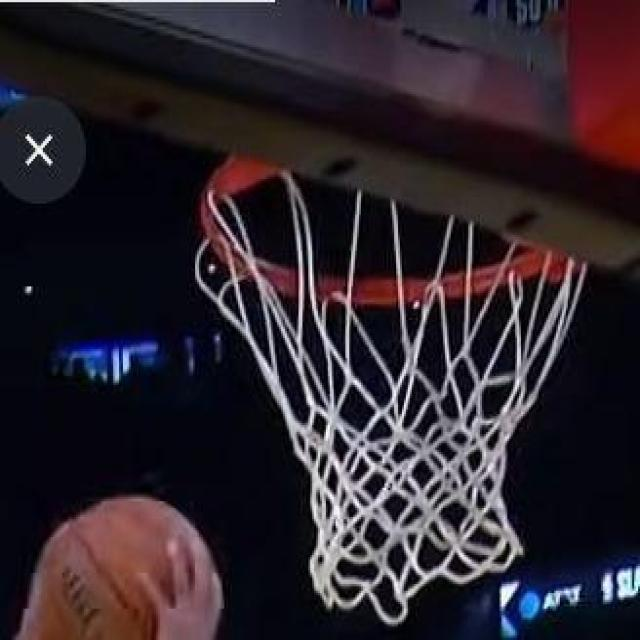hoop: (184, 142, 607, 575)
